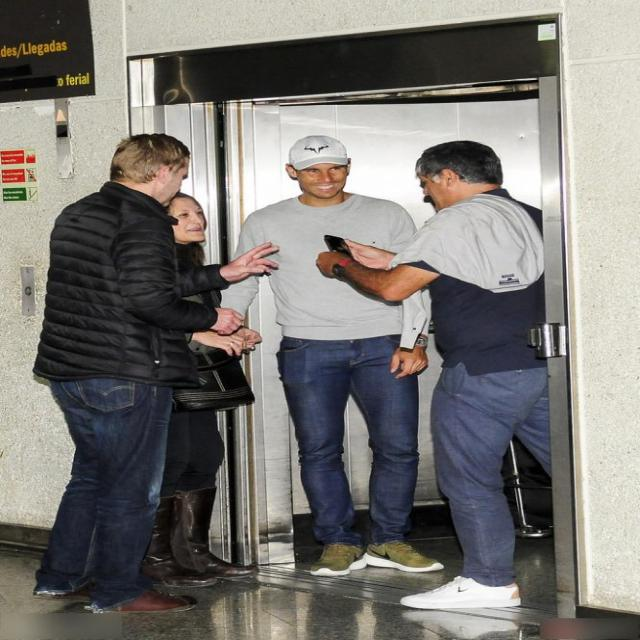Manusia: (231, 103, 431, 584)
